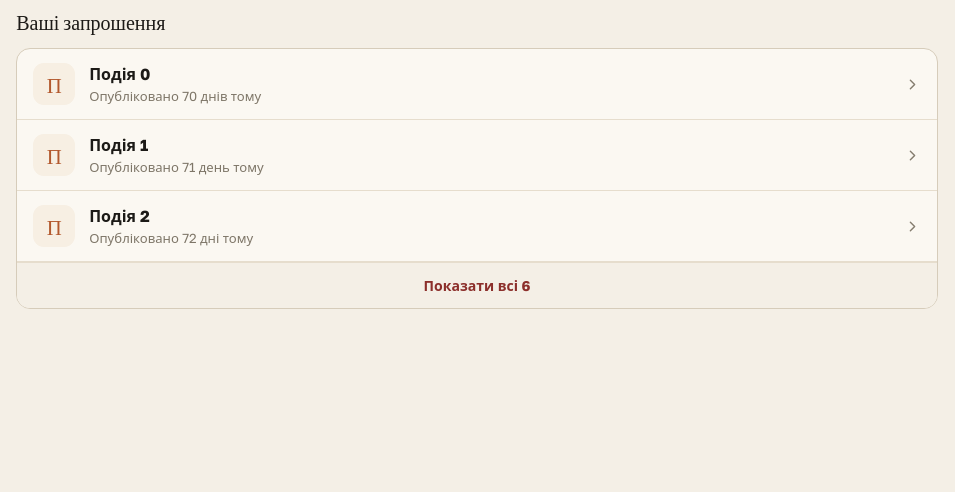
YourInvitations › caps the list and reveals the rest on request
Check: the number of links with class "lp-yours-row" is 3, box [17,49,937,120]; [17,120,937,191]; [17,191,937,262]
Click the button "Показати всі 6" at x=477, y=285, box [17,262,937,308]
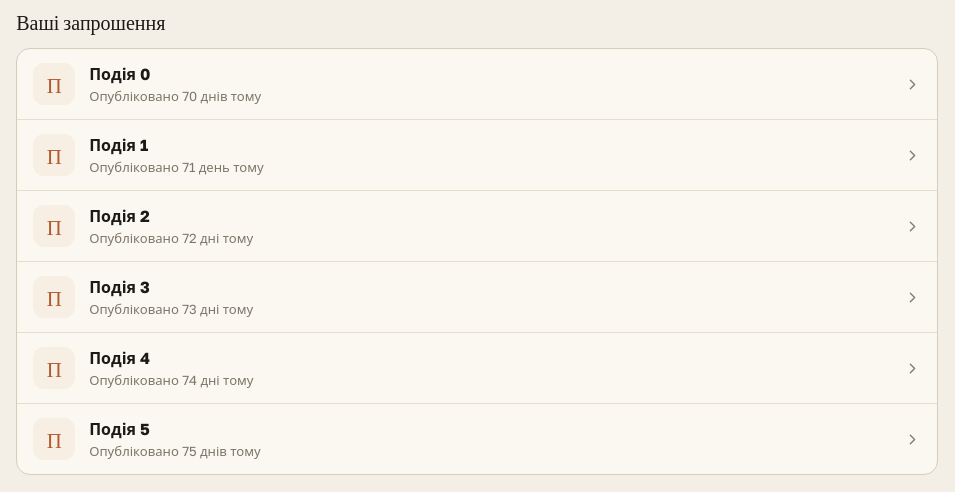
Check: the number of links with class "lp-yours-row" is 6, box [17,49,937,120]; [17,120,937,191]; [17,191,937,262]; [17,262,937,333]; [17,333,937,404]; [17,404,937,474]
Check: the button "Показати всі 6" is gone
